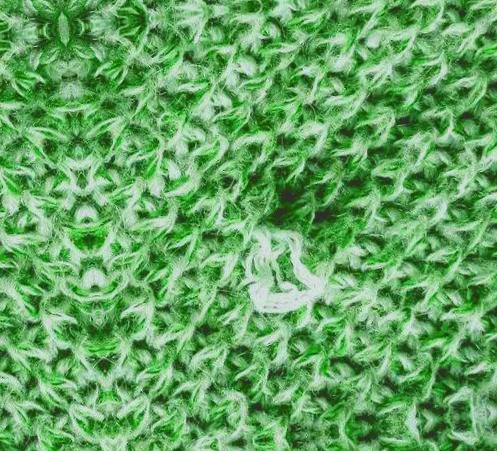snag: (237, 216, 340, 329)
